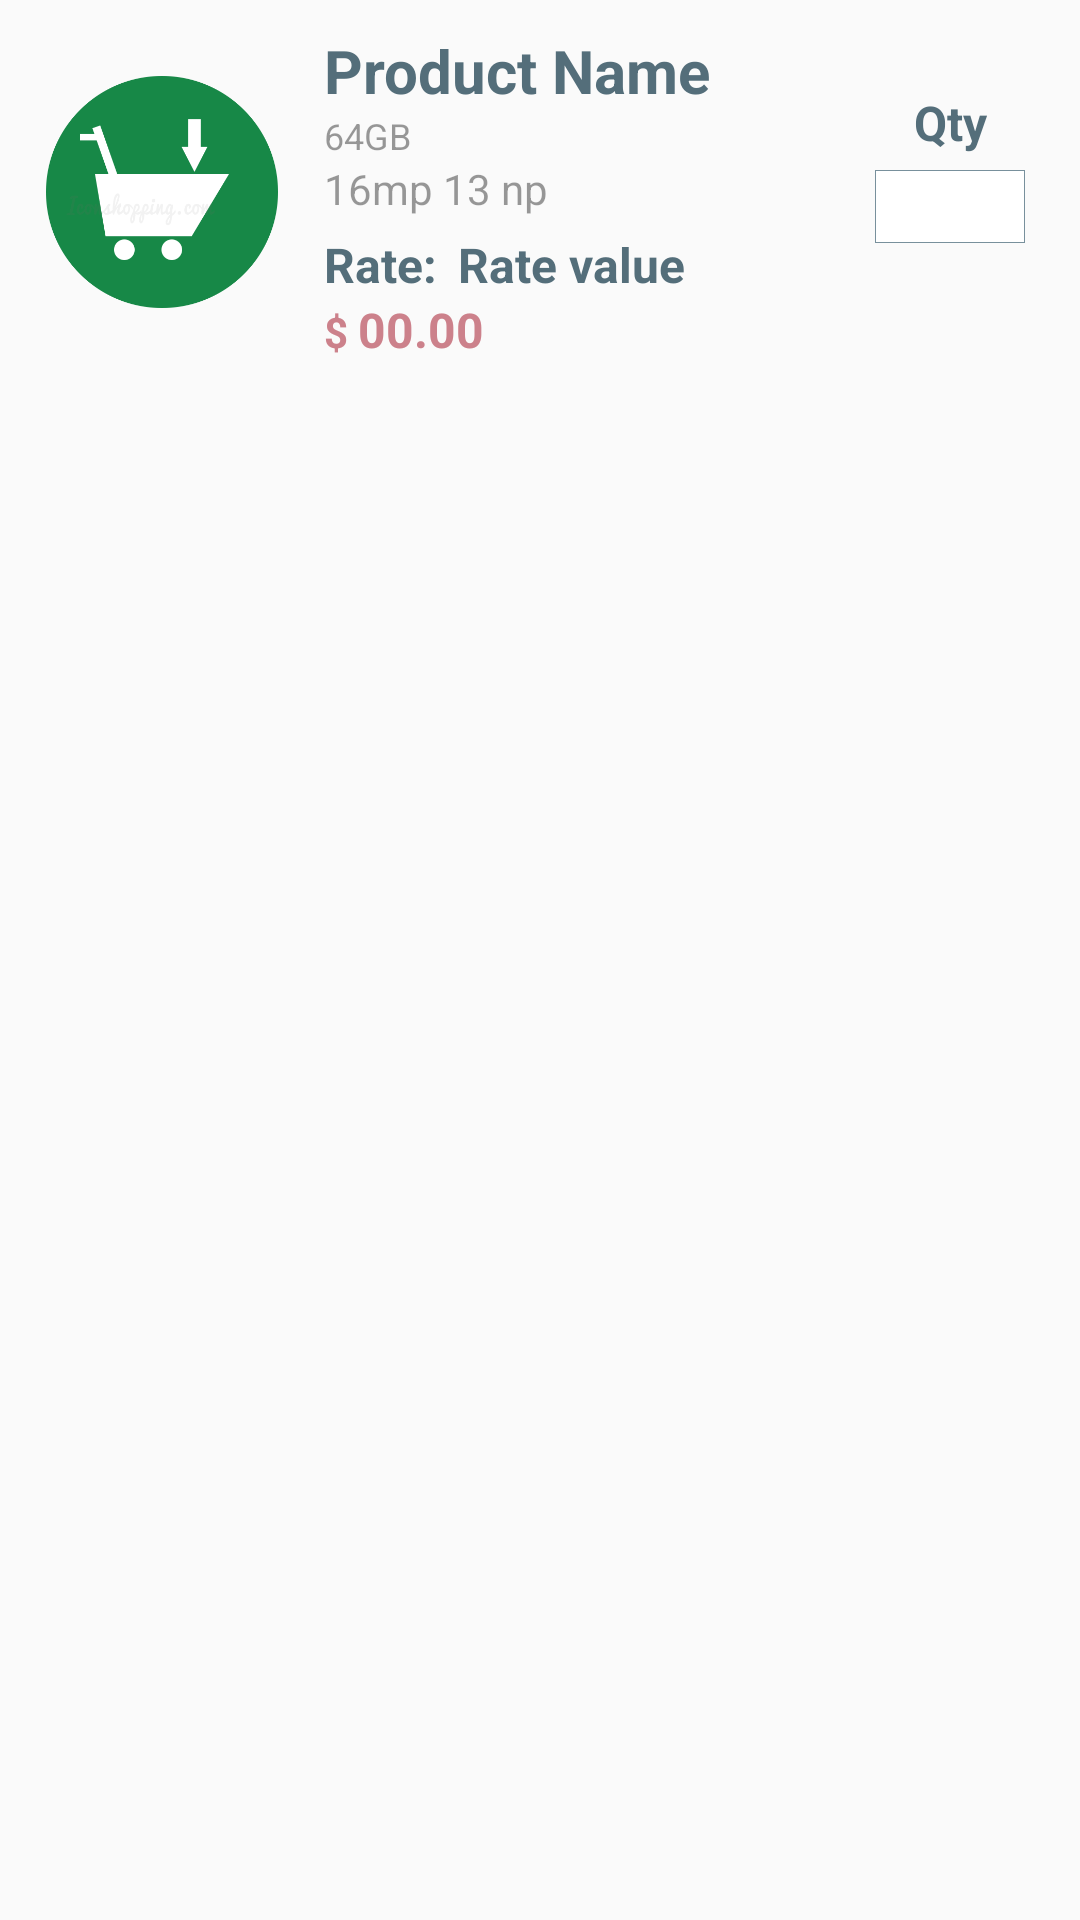

Icons on this 1080*1920 Android screen, each with the point to tap as (x,y):
cart: (162,192)
